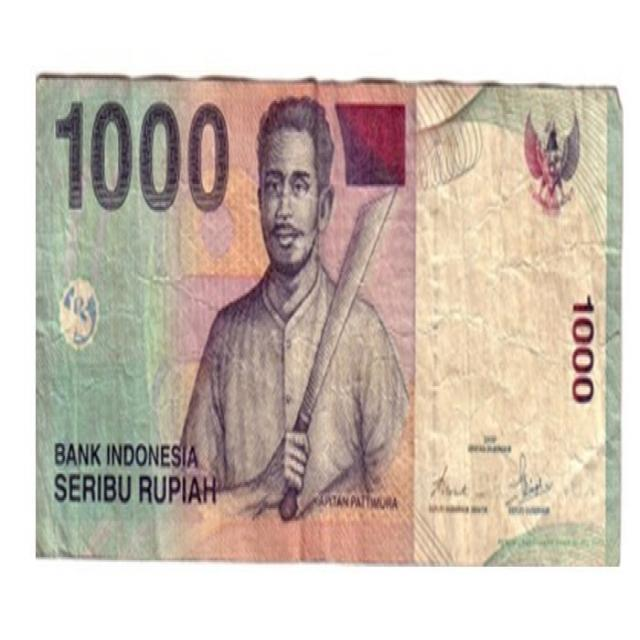seribu rupiah: (38, 77, 620, 566)
